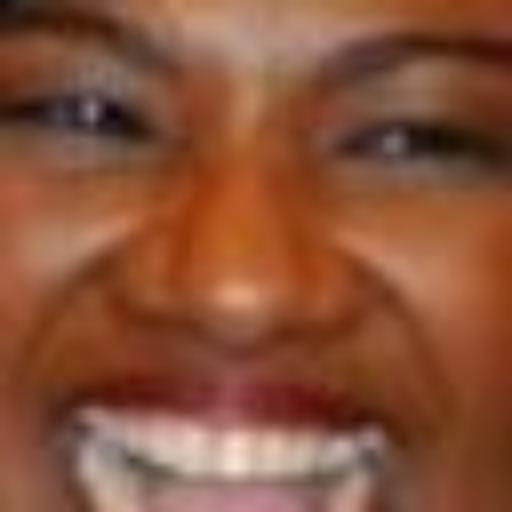left_eye: (339, 109, 487, 178)
left_lip_corner: (360, 415, 426, 499)
right_eye: (10, 84, 147, 151)
right_lip_corner: (41, 390, 109, 466)
